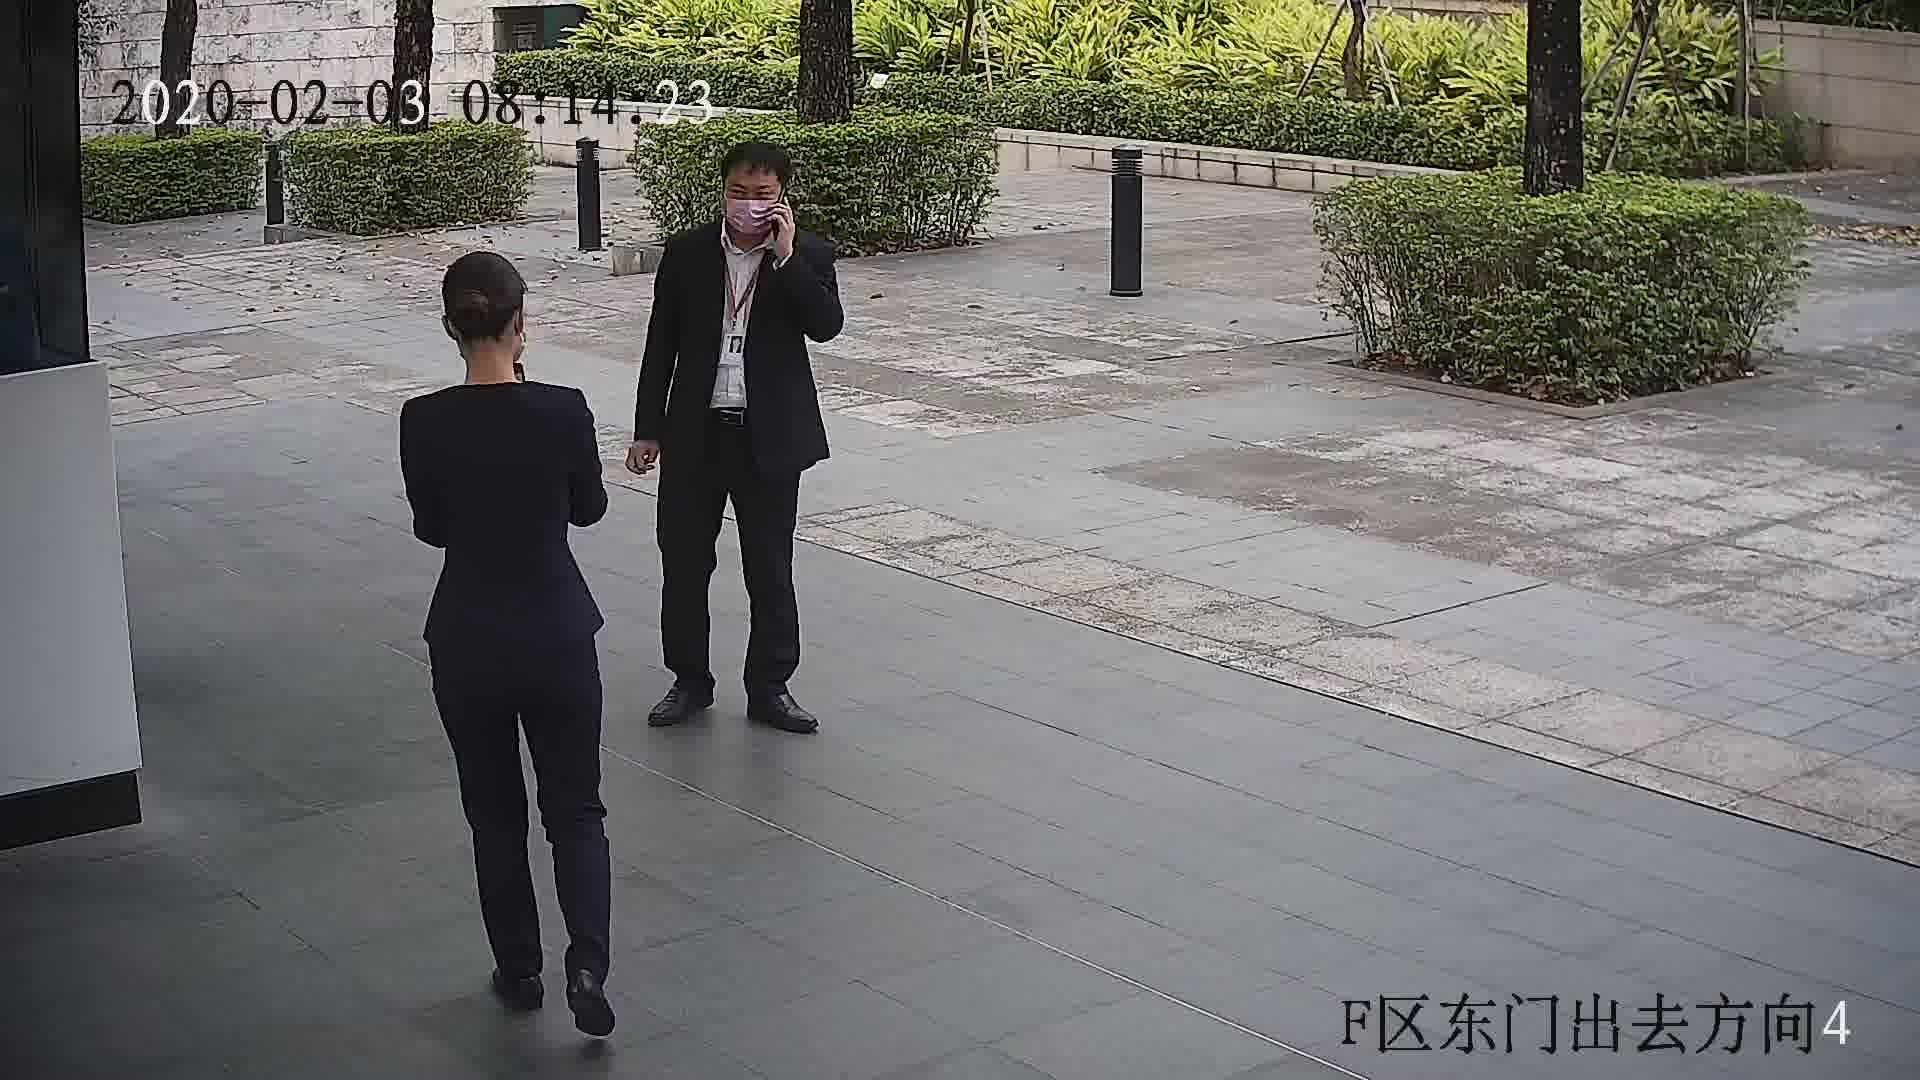face: (722, 172, 789, 240)
mask: (721, 195, 778, 237)
person: (400, 250, 592, 449), (658, 141, 833, 282)
